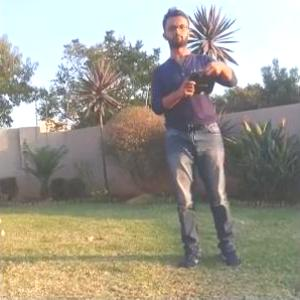follow: (147, 3, 247, 270)
